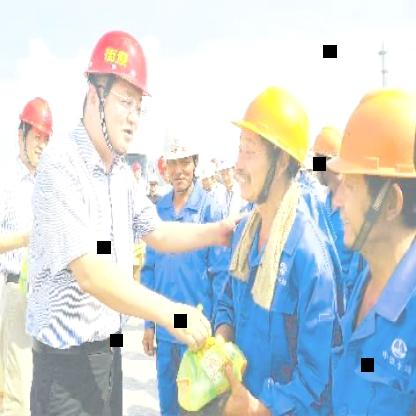helmet: (330, 74, 416, 246), (226, 76, 310, 208), (80, 22, 156, 156), (14, 90, 57, 169), (160, 116, 202, 192), (308, 124, 344, 185)
